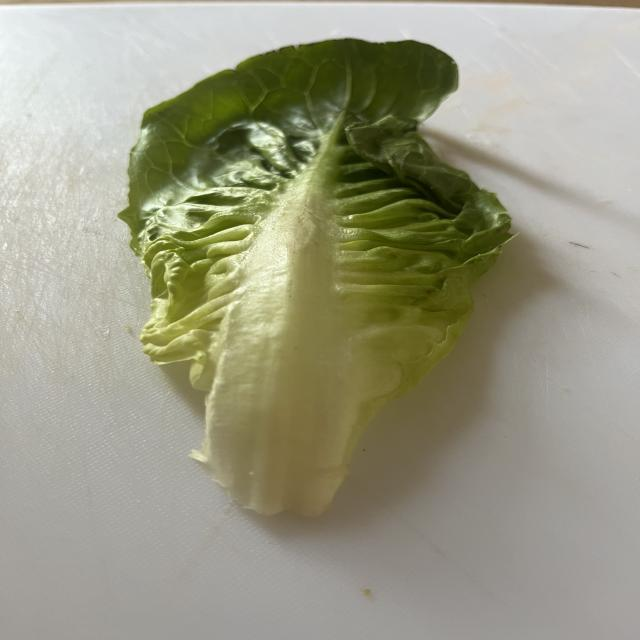lettuce: (120, 39, 510, 516)
